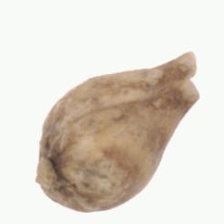L1: (170, 52, 200, 104), (34, 156, 66, 199)
L2: (35, 53, 199, 213)
